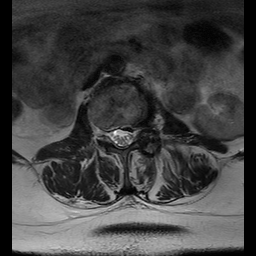CCS_normal: (118, 122, 126, 153)
LFS_normal: (135, 123, 142, 146)
LLS_normal: (127, 122, 134, 149)
RFS_normal: (101, 124, 111, 146)
RLS_normal: (110, 124, 118, 149)
